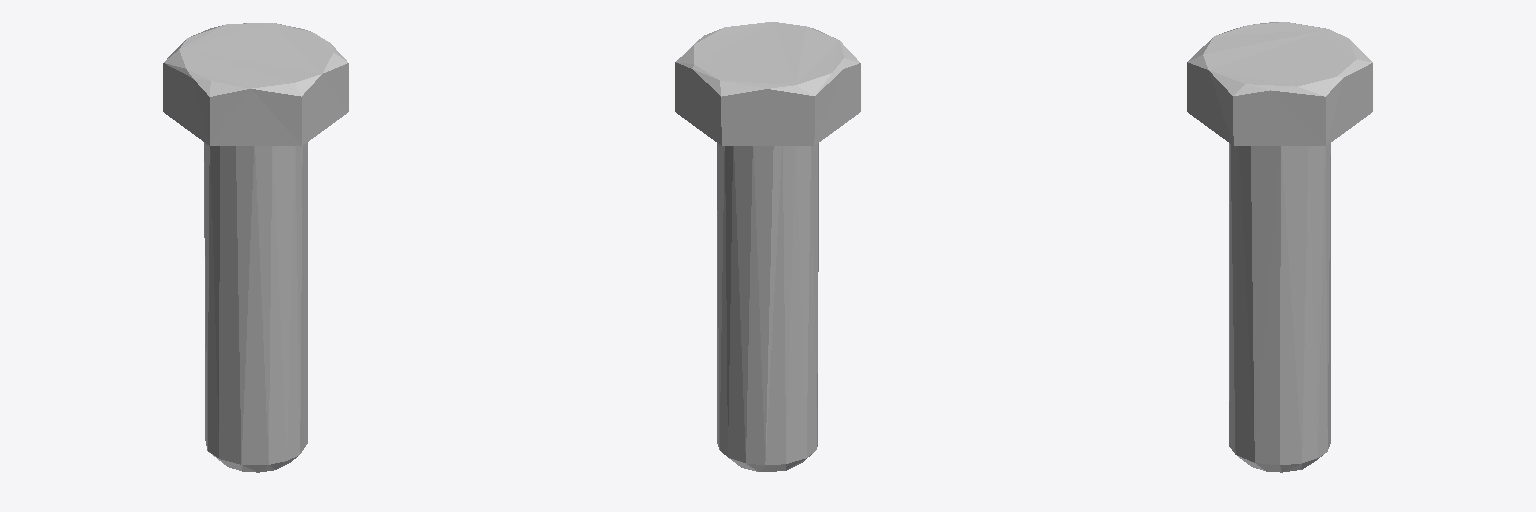
The model's file is m12 bolts rear cover.obj.
The picture shows the model from 3 angles: view 1: azimuth 30°, elevation 25°; view 2: azimuth 150°, elevation 25°; view 3: azimuth 270°, elevation 25°; orthographic projection.
Parts seen in each view (by area): view 1: imagetostl_mesh0; view 2: imagetostl_mesh0; view 3: imagetostl_mesh0.
Boxes of the visible parts, box(x1,y1,x2,y2) form: imagetostl_mesh0: box(163, 23, 348, 472); imagetostl_mesh0: box(675, 22, 860, 471); imagetostl_mesh0: box(1187, 22, 1372, 472).
Size of the model in its own units: 19.04 by 52.51 by 21.94.